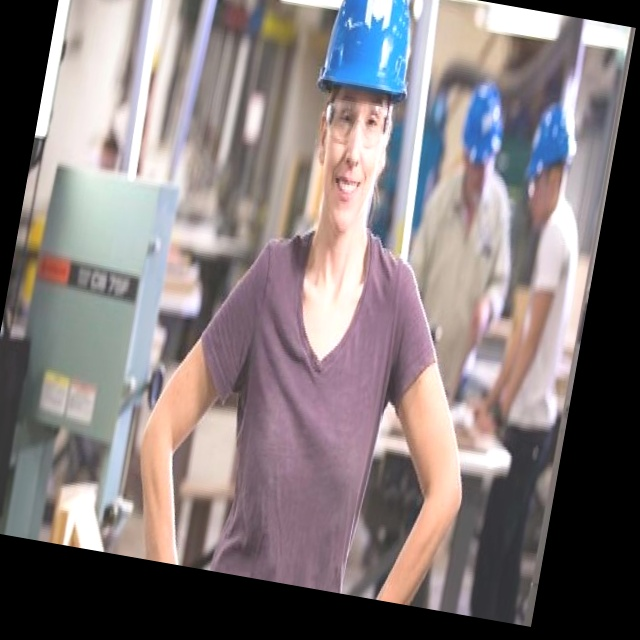Con_Casco: (296, 0, 427, 231)
Sin_Chaleco: (208, 216, 418, 596)
